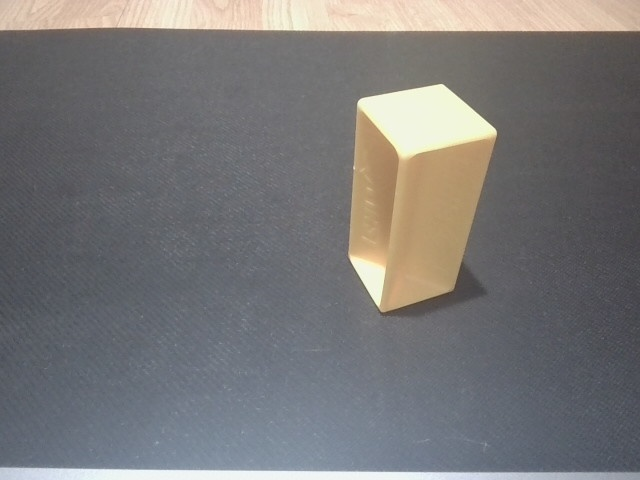YellowSample: (346, 81, 501, 317)
